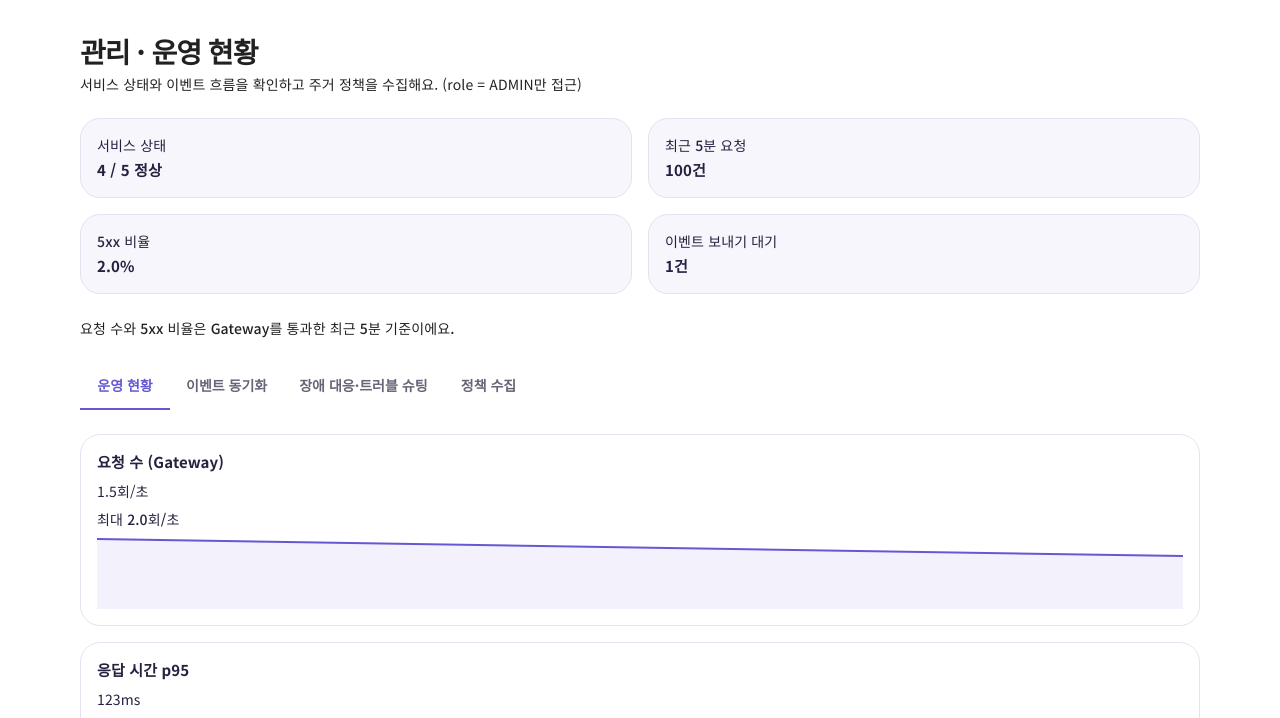
Test: 관리자 이벤트 동기화 흐름 › policy 대기·보냄과 engagement 반영·중복 무시·DLT를 한 줄로 보여 준다
Expected: the heading "관리 · 운영 현황" is shown, [80, 31, 257, 71]
What coordinates should you click on to do the following:
click the tab "이벤트 동기화"
I would click on:
 (227, 386)
Its box is [170, 362, 283, 410].
(page scrolled)
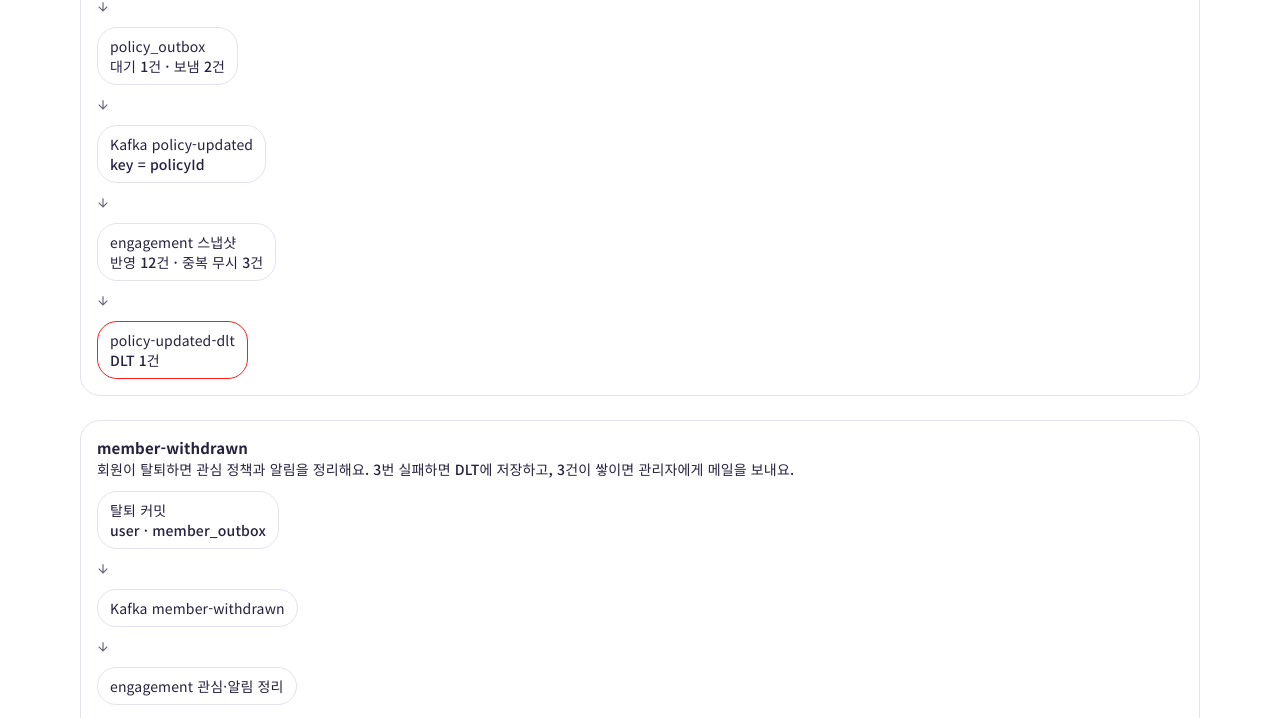
Now the text "대기 1건 · 보냄 2건" is shown, box [110, 56, 225, 76]
Now the text "반영 12건 · 중복 무시 3건" is shown, box [110, 252, 263, 272]
Now the text "DLT 1건" is shown, box [110, 350, 160, 370]
